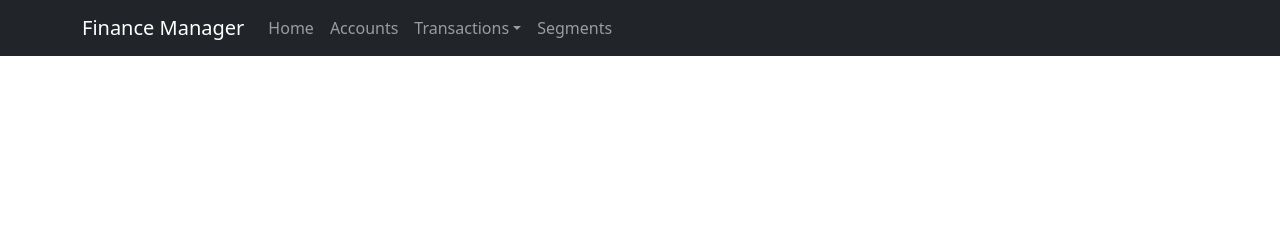
it: zero accounts: nav entry point renders disabled with explanatory text
The width and height of the screenshot is (1280, 236).
Click the button "Transactions".
click(462, 28)  # box [414,17,509,39]
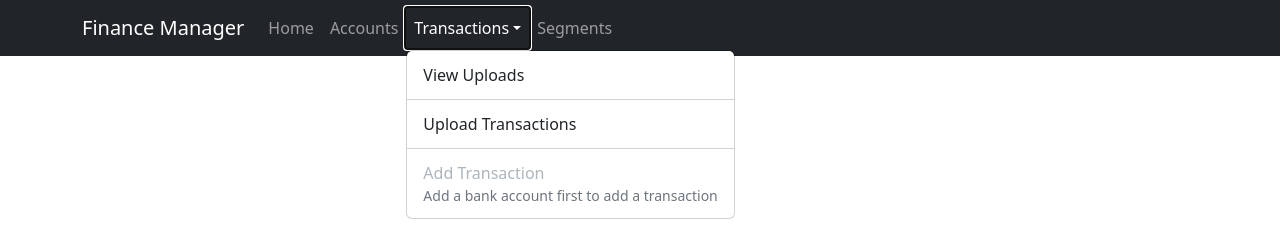
expect the text "Add a bank account first to add a transaction" is shown: met, box [423,185,718,206]
